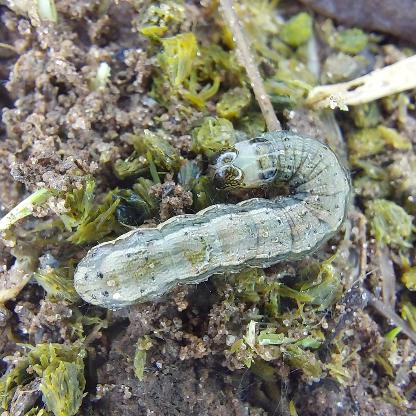Fall Armyworm Larvae: (61, 121, 364, 323)
